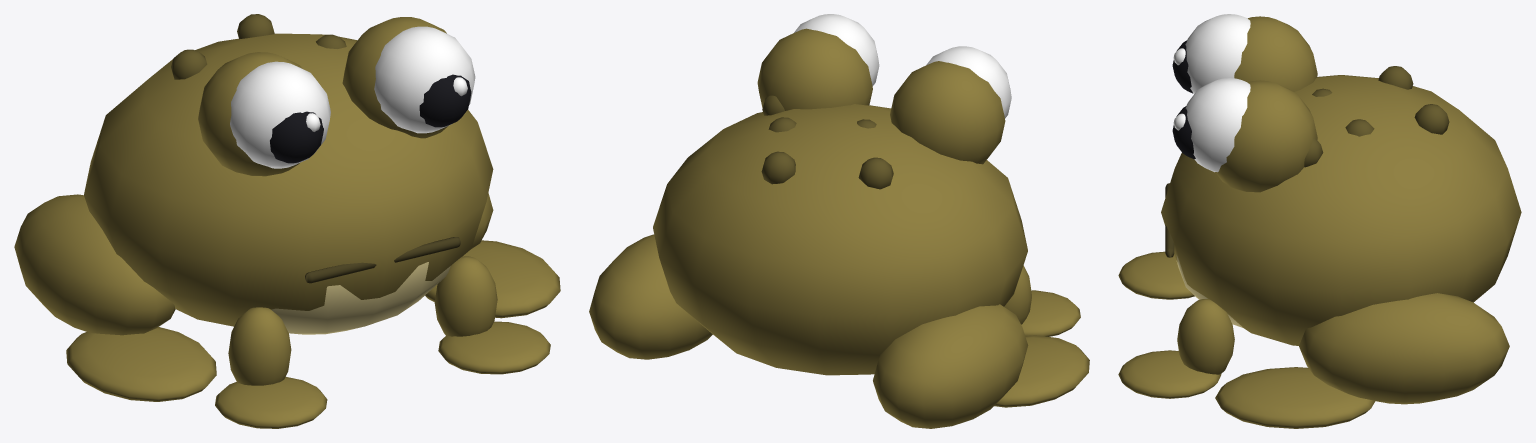
3 views of the same model, side by side, from view 1: azimuth 30°, elevation 25°; view 2: azimuth 150°, elevation 25°; view 3: azimuth 270°, elevation 25° (orthographic). The views are drawn at different scales.
Visible parts, largest first — view 1: Toad; view 2: Toad; view 3: Toad.
Boxes of the visible parts, box(x1,y1,x2,y2) form: Toad: box(14, 14, 560, 428); Toad: box(589, 14, 1089, 428); Toad: box(1118, 14, 1521, 428).
Bounding box in the file's own units: 2.72 × 1.75 × 2.24.
Materials: 1 (1 with a texture image).
